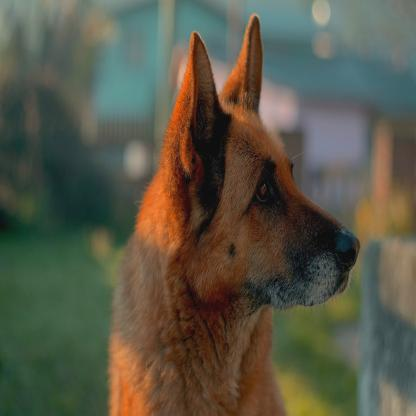german shepherd: (105, 15, 362, 416)
